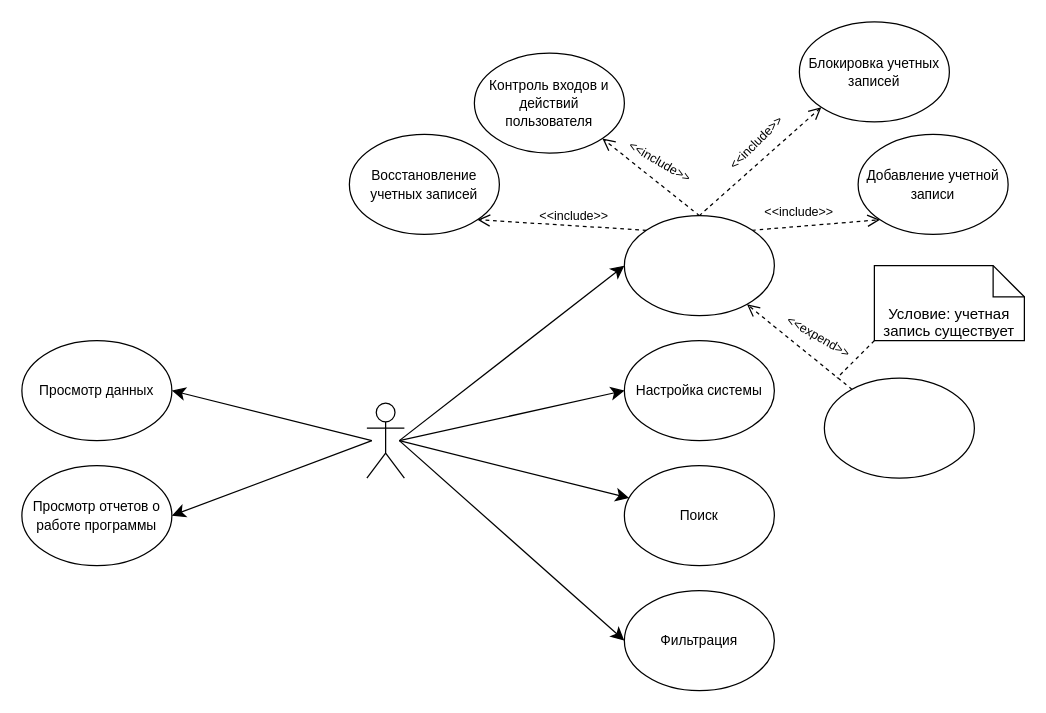
This 1046x713 diagram has some shape labels left out. Each missing label, with the centre of its shape:
Администратор: (385,440)
Настройка прав доступа: (898,427)
Управление пользователями и ролями: (698,265)
